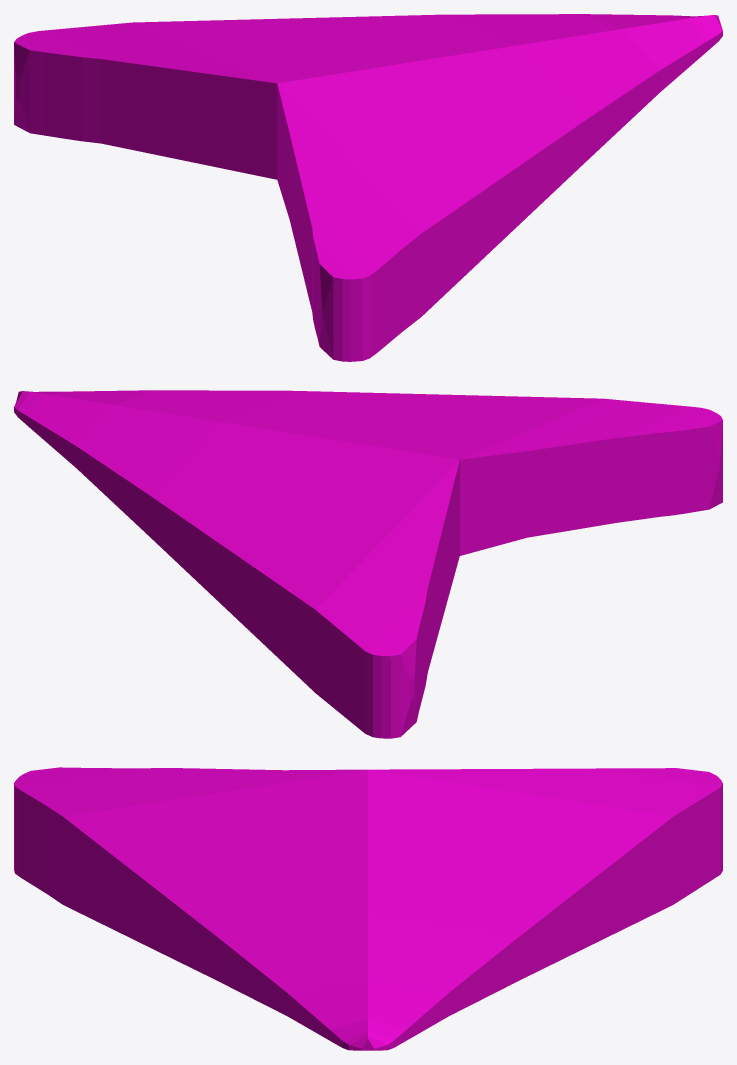
File: Pointing Arrow 1.fbx
3 renders of one model, top to bottom at view 1: azimuth 30°, elevation 25°; view 2: azimuth 150°, elevation 25°; view 3: azimuth 270°, elevation 25°, orthographic. The views are drawn at different scales.
Visible parts, largest first — view 1: arrow; view 2: arrow; view 3: arrow.
Boxes of the visible parts, box(x1,y1,x2,y2) form: arrow: box(14, 14, 722, 361); arrow: box(14, 390, 722, 738); arrow: box(14, 767, 722, 1050).
Bounding box in the file's own units: 325 × 72.34 × 307.
